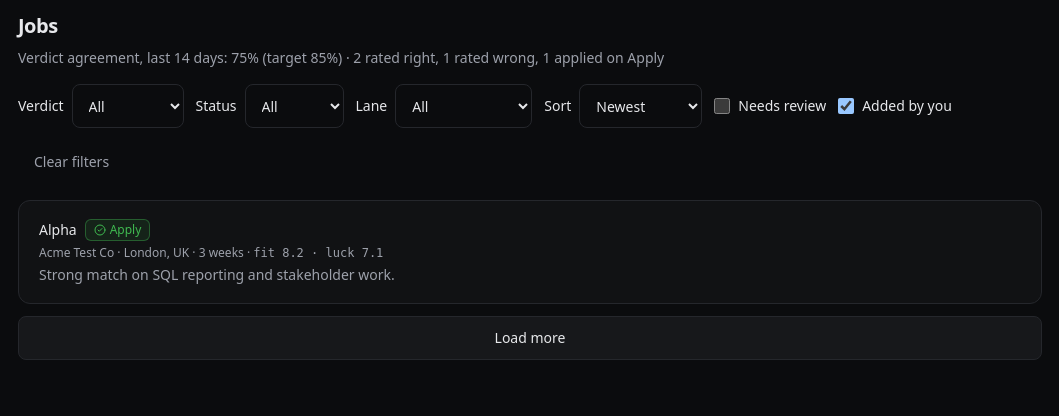
Test case: JobsPage › pages jobs added from Lookup with the cursor
This screenshot has width=1059, height=416.
Click the button "Load more" at (530, 338), box [18, 316, 1042, 360]
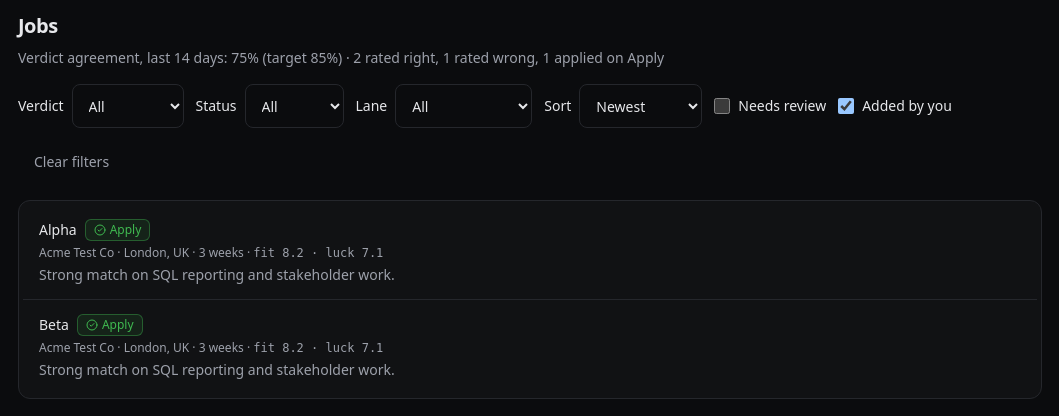
Expected: the text "Beta" is shown, [39, 315, 69, 335]
